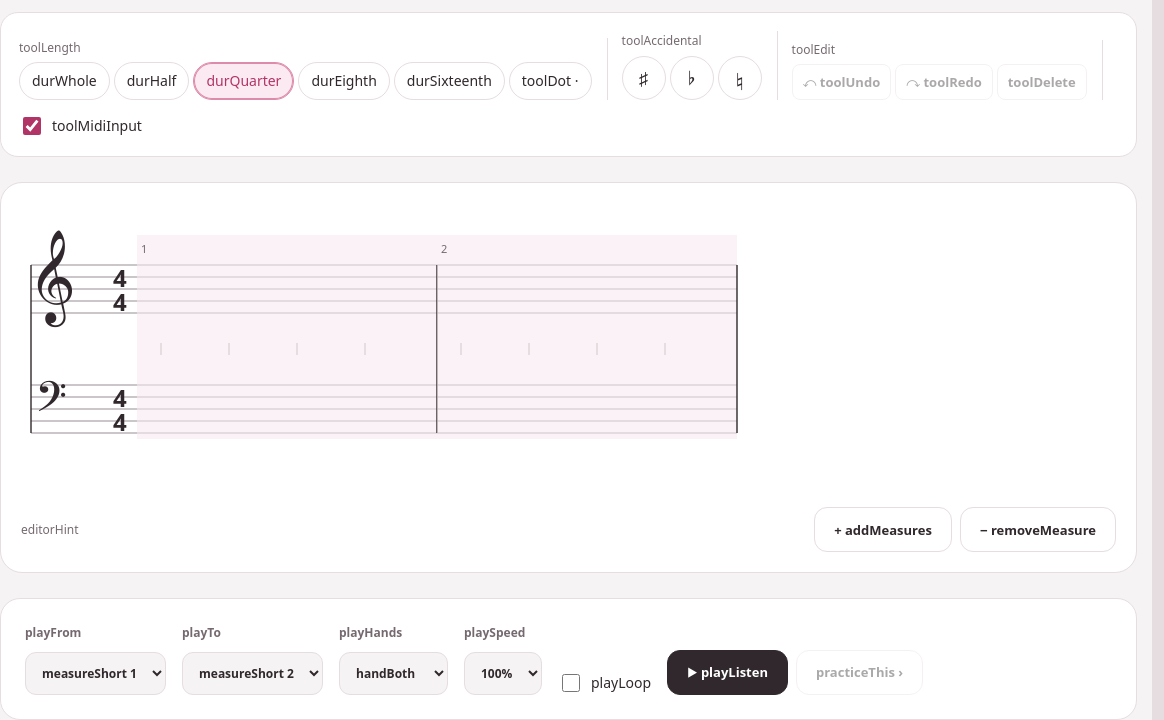
note editor MIDI lifecycle › clamps the selected range after the final empty measure is removed
(page scrolled)
Select "measureShort 2" in the dropdown labelled "playFrom" at (96, 673), box [25,652,166,695]
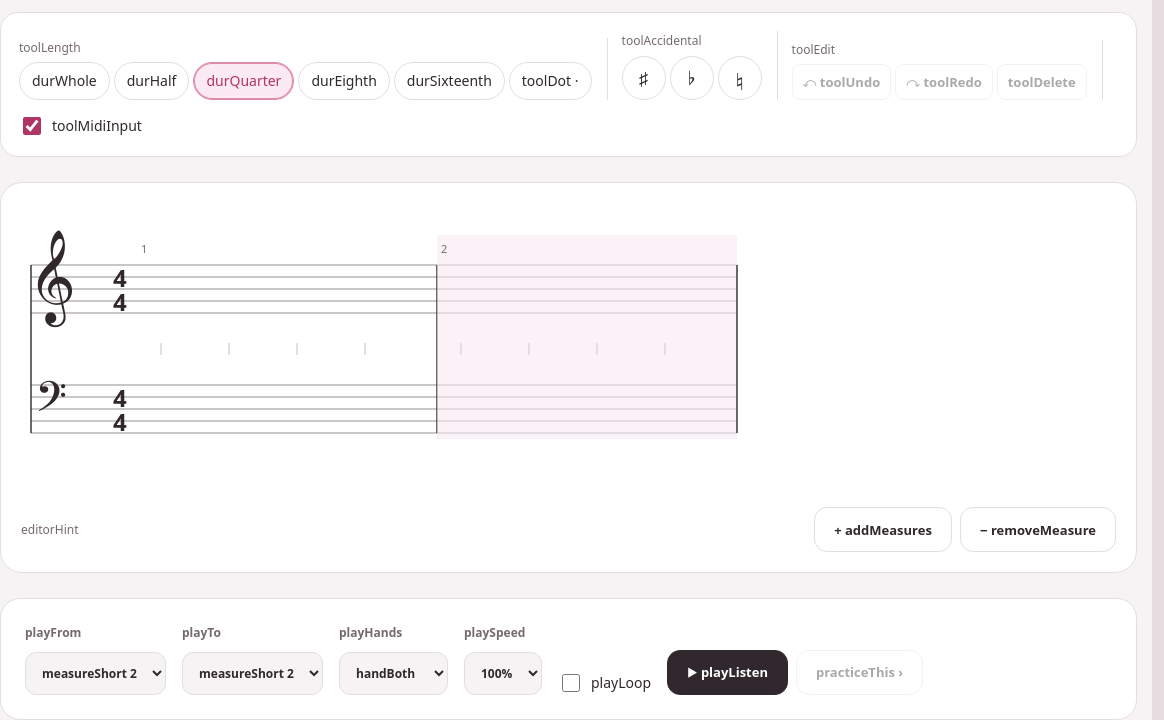
Click the button "− removeMeasure".
click(1038, 530)  # box [960,507,1116,552]
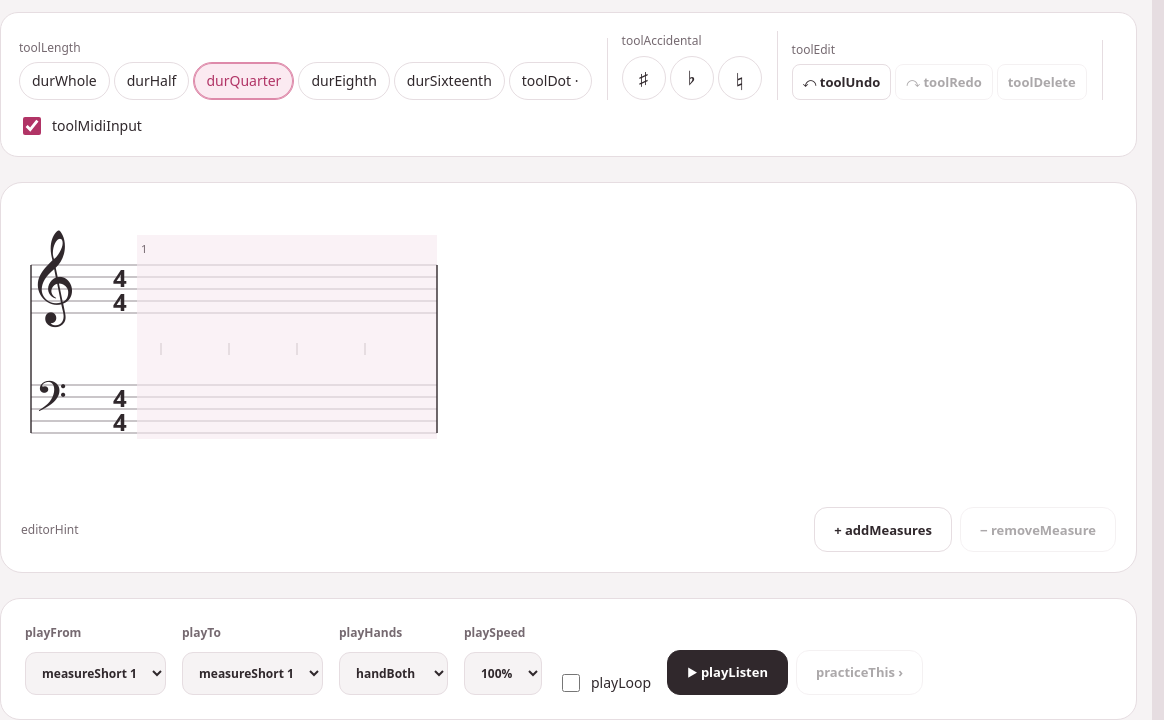
Expected: the dropdown labelled "playTo" shows "measureShort 1", [182,652,323,695]
